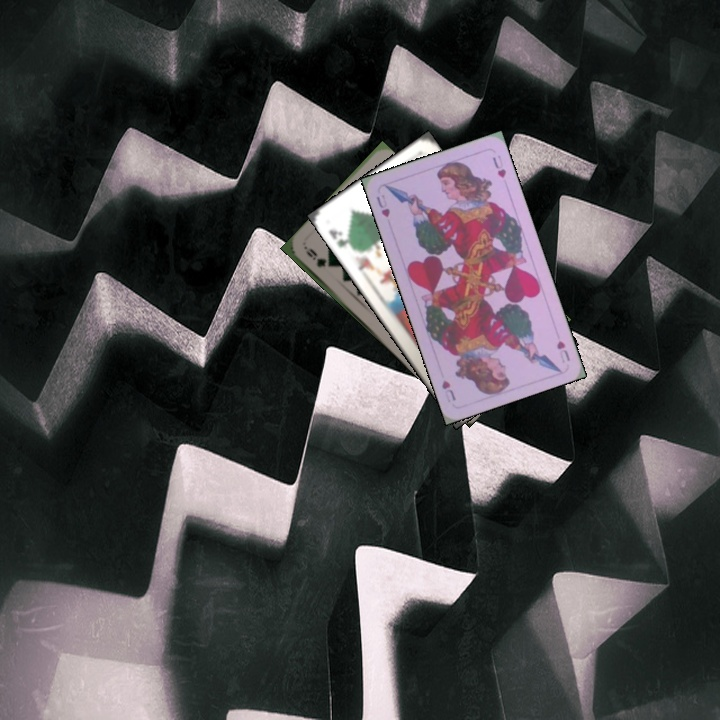G9: (301, 243, 334, 271)
GK: (324, 225, 355, 251)
HU: (372, 190, 393, 220), (553, 336, 573, 366)
